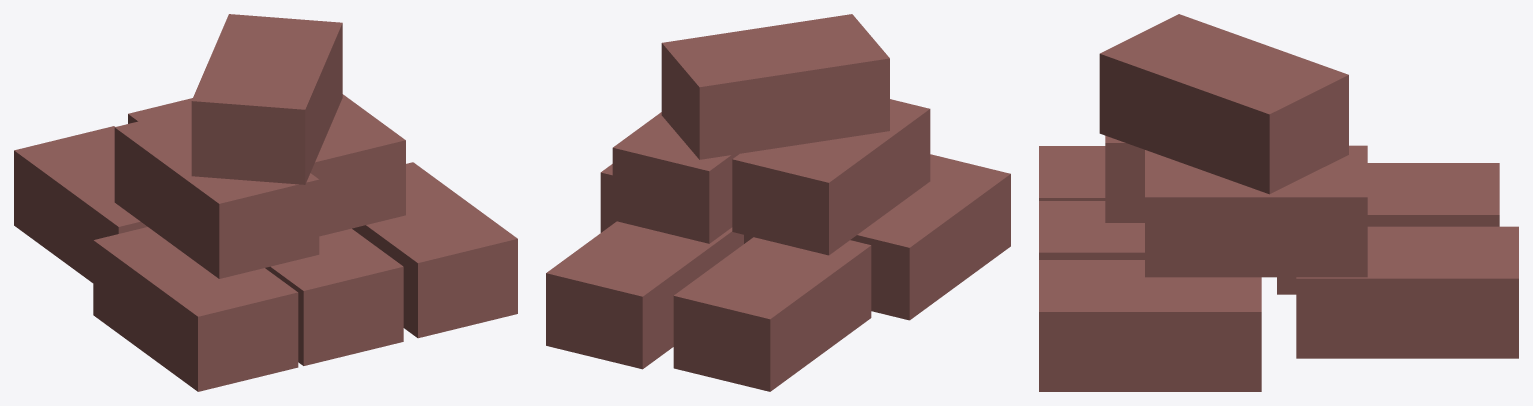
File: SM_Bricks_01.fbx
The picture shows the model from 3 angles, left to right: view 1: azimuth 30°, elevation 25°; view 2: azimuth 150°, elevation 25°; view 3: azimuth 270°, elevation 25°; orthographic projection. The views are drawn at different scales.
Parts seen in each view (by area): view 1: Bricks 1; view 2: Bricks 1; view 3: Bricks 1.
Part boxes in pixels (box(x1,y1,x2,y2)): Bricks 1: box(14, 14, 517, 391); Bricks 1: box(546, 14, 1010, 391); Bricks 1: box(1039, 14, 1518, 391).
Size of the model in its own units: 66.31 by 45.23 by 81.
